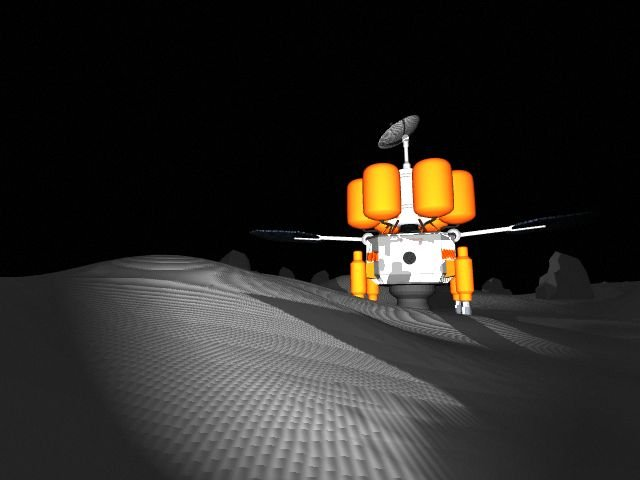homebase: (247, 114, 566, 316)
